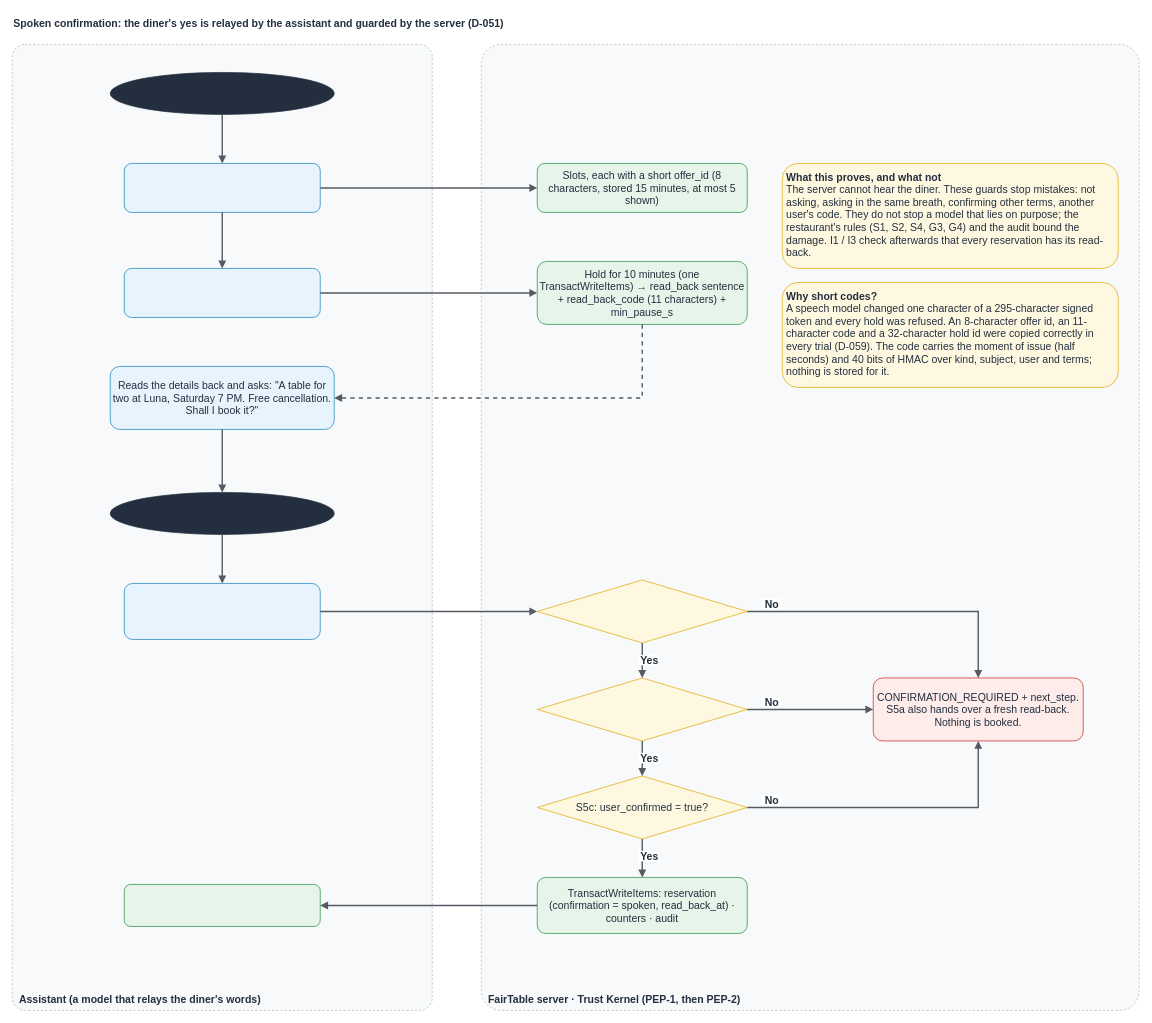
Image size: 1152x1023. Some labels were removed from this diagram. The centre of each missing label's shape, as x and y in pixels:
availability_check(time_window 19:00-19:00): [222,187]
Diner: "Book Luna for two tomorrow at seven.": [222,93]
Diner: "Yes, please.": [222,513]
reservation_confirm(hold_id, key, read_back_code, user_confirmed = true): [222,611]
reservation_hold(offer_id, idempotency_key): [222,292]
S5a: code fits this hold, user and terms?: [642,611]
S5b: pause over? (3 s, 6 s with a fee): [642,709]
Says "Booked." (spoken_summary + booking code): [222,905]
